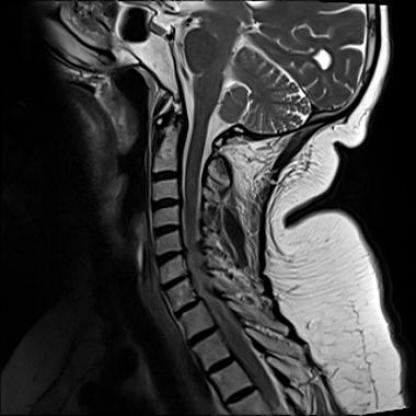Disc Protrusionrotation: (149, 195, 183, 211), (154, 250, 185, 266), (159, 276, 195, 288)
